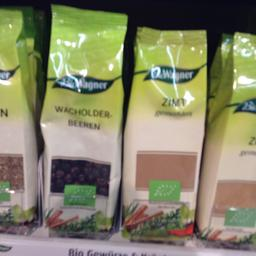spices: (38, 2, 127, 233), (124, 24, 206, 242), (202, 31, 255, 241)
